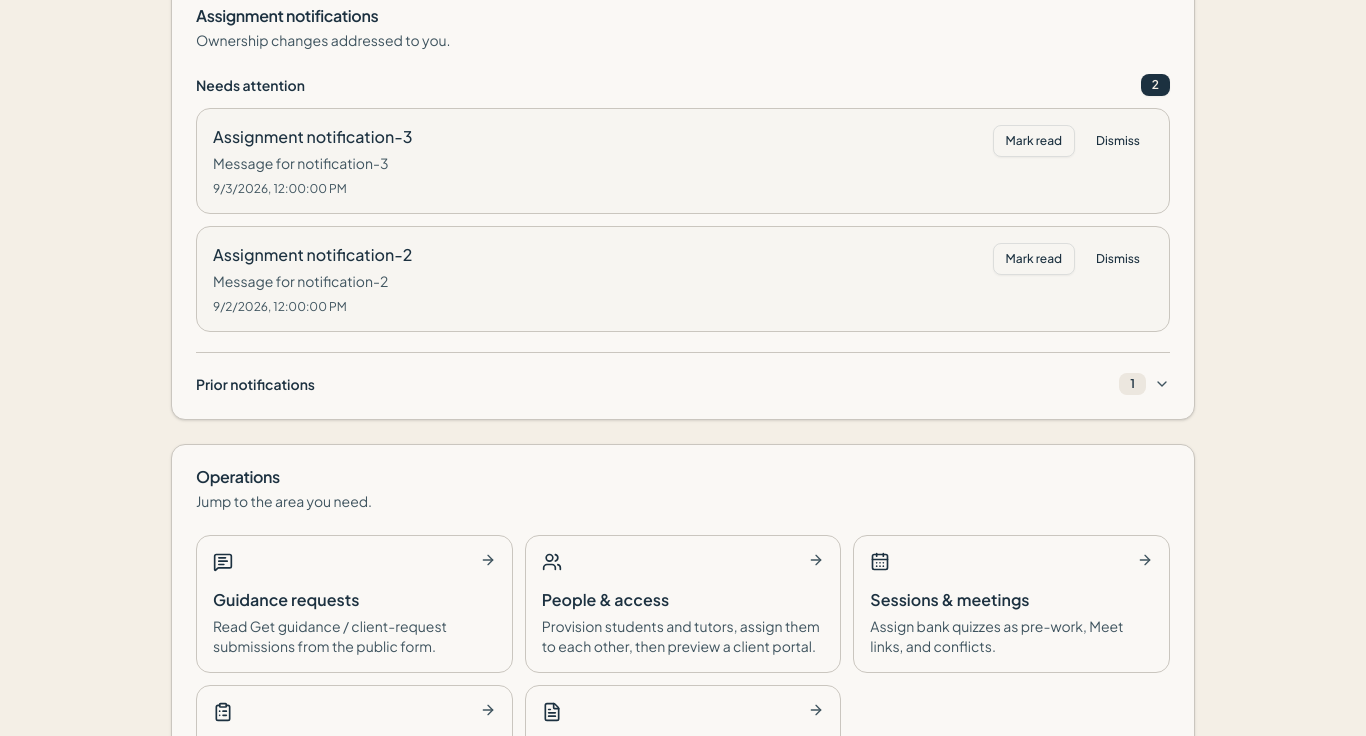
Test: administrator overview › shows every assignment notification when there are three or fewer
(page scrolled)
Expected: the element with test id "notification-notification-3" is shown, [196,108,1170,214]
Expected: the element with test id "notification-notification-2" is shown, [196,226,1170,332]
Click the heading "Prior notifications 1" at (256, 384), box [196,373,1170,395]
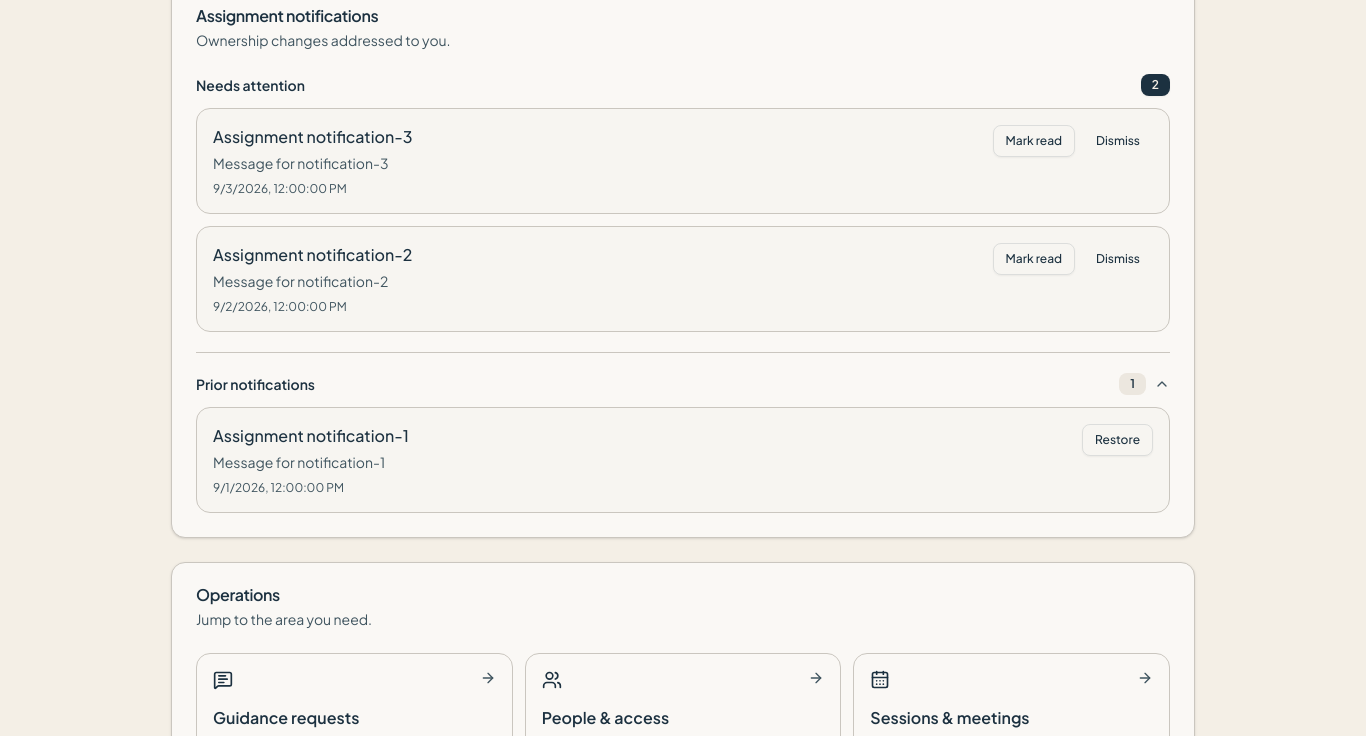
Expected: the element with test id "notification-notification-1" is shown, [196,407,1170,513]
